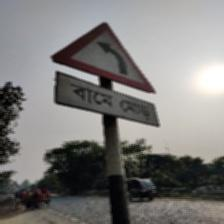Left-Turn: (50, 20, 160, 129)
